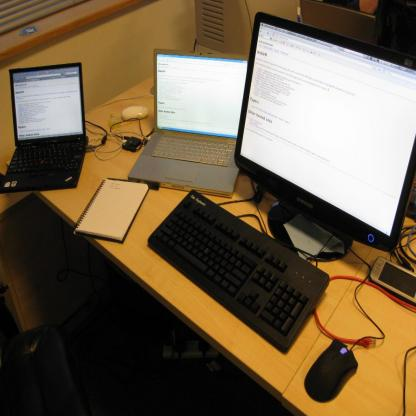board: (127, 48, 249, 199), (0, 63, 90, 194), (299, 0, 377, 44)
